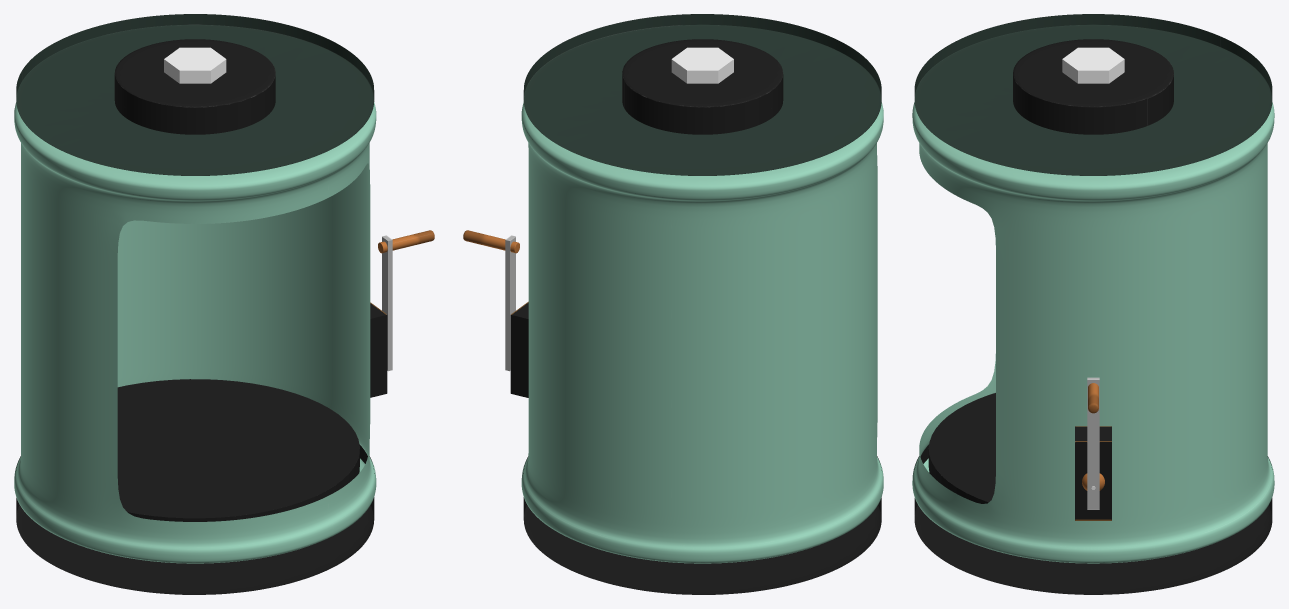
The model's file is menu_spinner_shell.gltf.
3 renders of one model, left to right at view 1: azimuth 30°, elevation 25°; view 2: azimuth 150°, elevation 25°; view 3: azimuth 270°, elevation 25°, orthographic.
Visible parts, largest first — view 1: Cylinder, Cylinder.005, Cylinder.004, Cylinder.006, Cylinder.002, Cylinder.001, Cube, Cube.001, Cylinder.011; view 2: Cylinder, Cylinder.005, Cylinder.006, Cylinder.002, Cylinder.001, Cube, Cube.001, Cylinder.011; view 3: Cylinder, Cylinder.005, Cylinder.006, Cylinder.002, Cylinder.004, Cube, Cylinder.001, Cube.001.
Part boxes in pixels (box(x1,y1,x2,y2)): Cylinder: box(14, 102, 376, 563); Cylinder.005: box(16, 14, 374, 175); Cylinder.004: box(117, 379, 359, 521); Cylinder.006: box(16, 444, 374, 594); Cylinder.002: box(114, 39, 275, 134); Cylinder.001: box(164, 47, 226, 83); Cube: box(370, 302, 387, 397); Cube.001: box(382, 235, 392, 371); Cylinder.011: box(378, 230, 434, 253); Cylinder: box(521, 102, 883, 563); Cylinder.005: box(523, 14, 881, 175); Cylinder.006: box(523, 456, 881, 594); Cylinder.002: box(622, 39, 783, 134); Cylinder.001: box(671, 47, 733, 83); Cube: box(510, 301, 528, 397); Cube.001: box(505, 235, 515, 371); Cylinder.011: box(463, 230, 519, 253); Cylinder: box(912, 102, 1274, 563); Cylinder.005: box(914, 14, 1272, 175); Cylinder.006: box(914, 444, 1272, 594); Cylinder.002: box(1013, 39, 1173, 134); Cylinder.004: box(928, 393, 995, 503); Cube: box(1075, 426, 1111, 520); Cylinder.001: box(1062, 47, 1124, 83); Cube.001: box(1087, 377, 1099, 509).
Size of the model in its own units: 2.6 by 2.9 by 2.07.
1 material, 1 textured.
